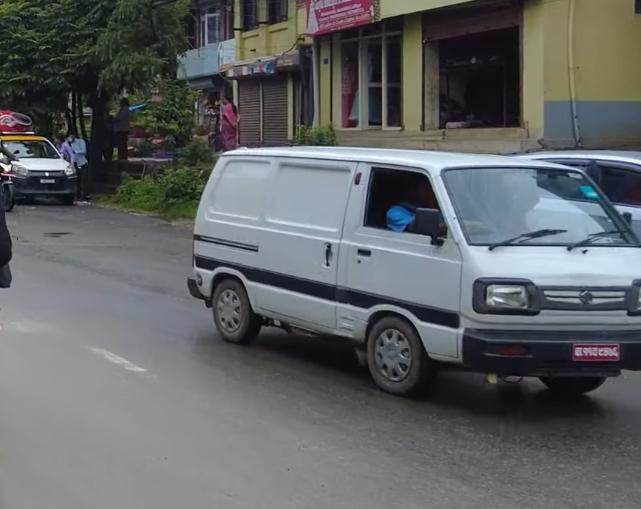bike: (0, 148, 22, 210)
taxi: (187, 128, 641, 399), (0, 128, 83, 206)
